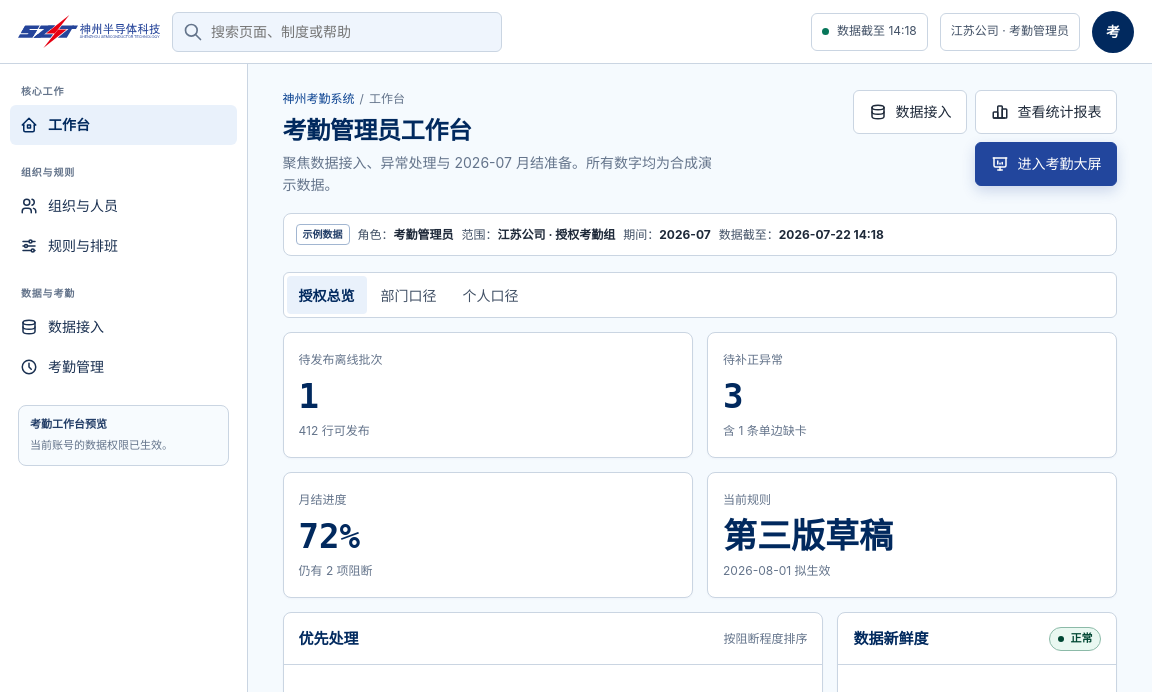
Scenario: OpenDesign workbench › switches between department and personal scopes without losing the shell
The image size is (1152, 692).
Step 1. Click the tab "部门口径" → {"x": 408, "y": 295}, box [368,276,448,314]
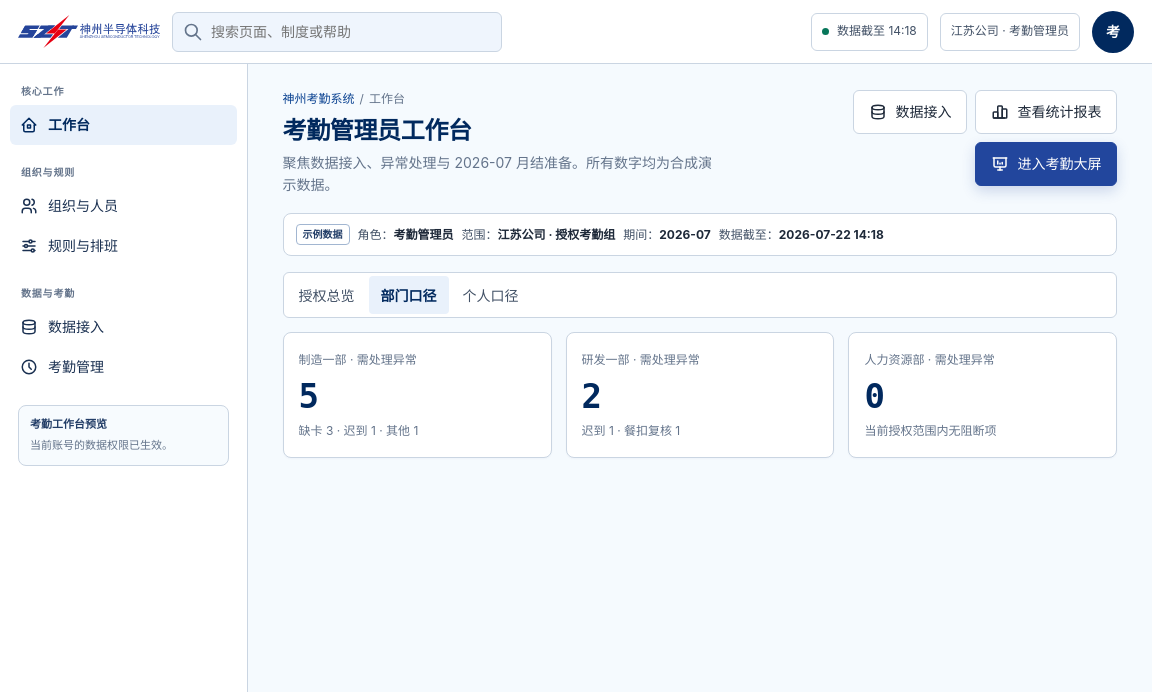
Expected: the panel shows "制造一部 · 需处理异常", [298,352,417,367]
Step 2. Click the tab "个人口径" → {"x": 490, "y": 295}, box [450,276,530,314]
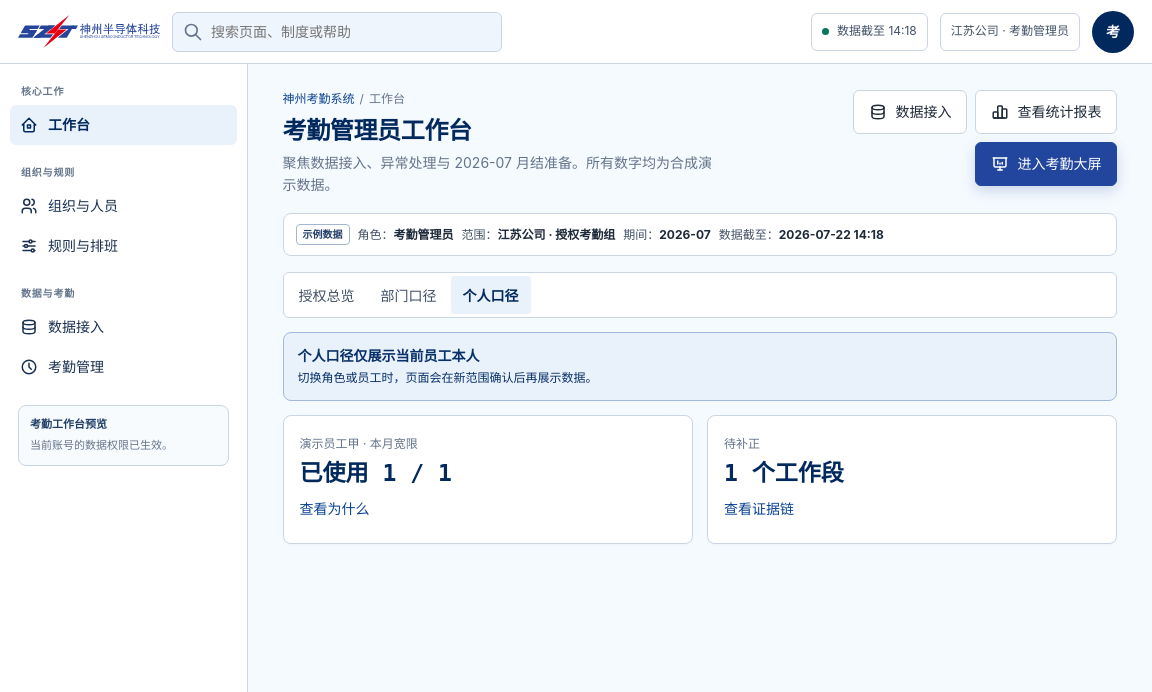
Expected: the heading "考勤管理员工作台" is shown, [282,116,472,145]
Expected: the panel shows "个人口径仅展示当前员工本人", [298,347,480,364]
